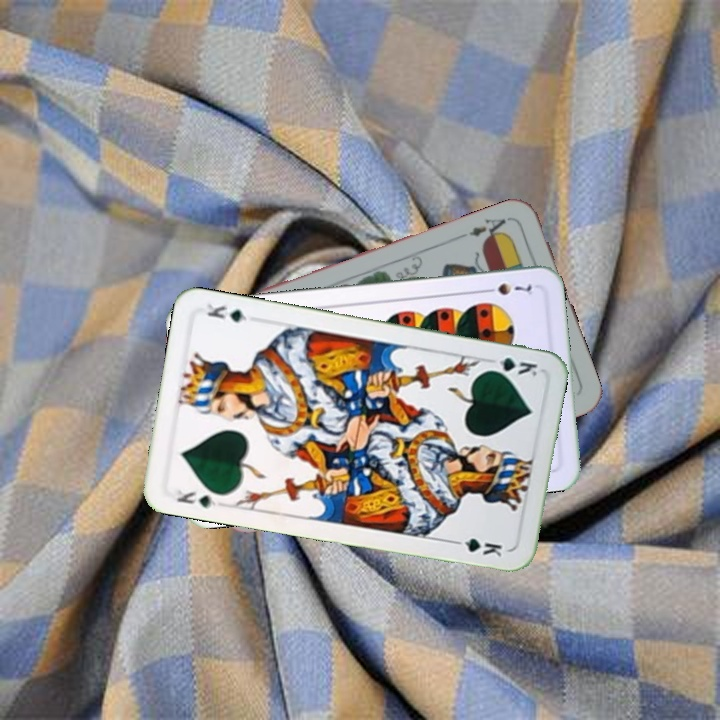EA: (465, 213, 514, 245)
GK: (482, 353, 540, 379), (172, 485, 219, 511)
S7: (478, 279, 535, 298)
